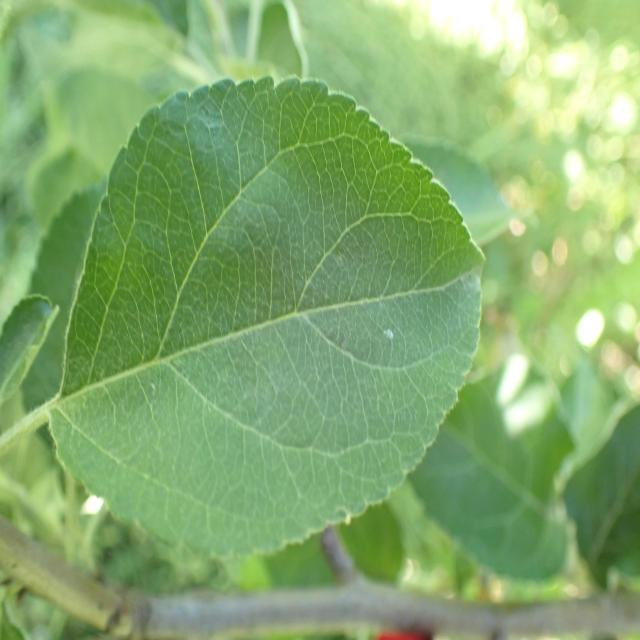healthy: (49, 73, 488, 559)
